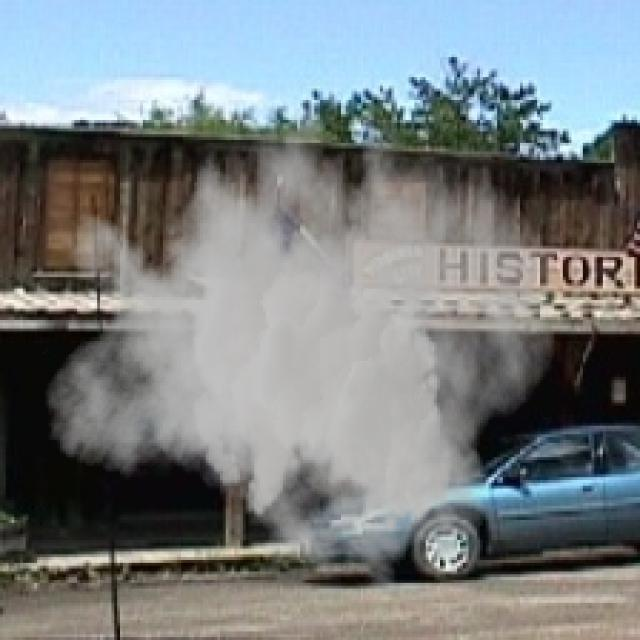Smoke: (42, 74, 558, 592)
